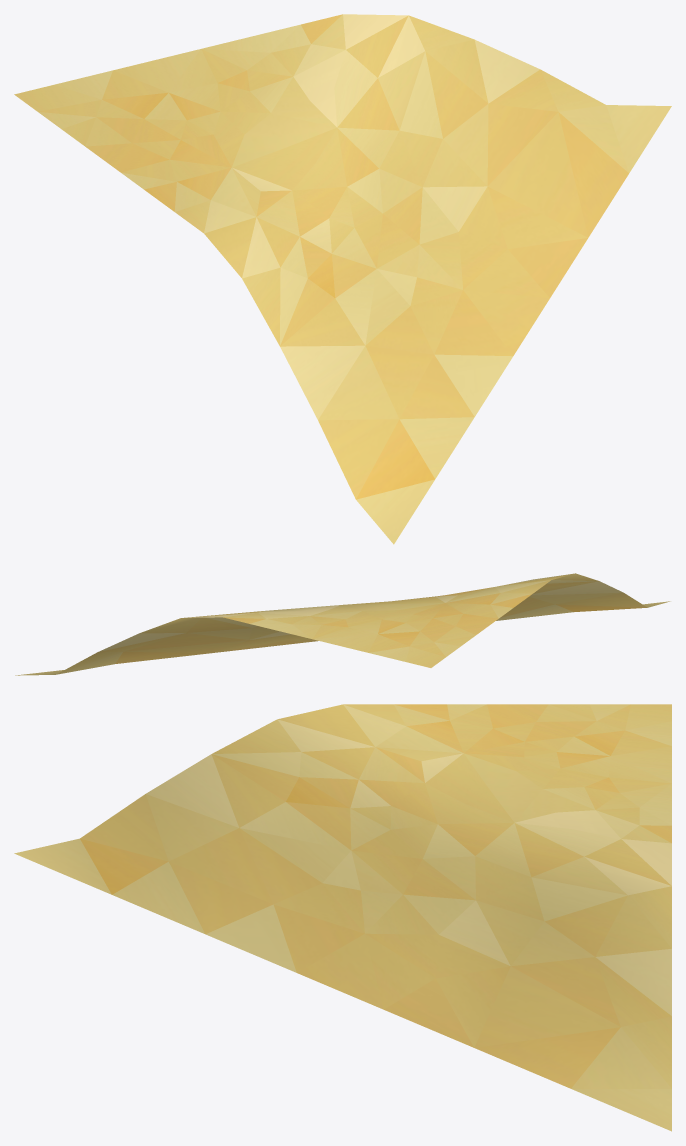
File: GL-Terrain-part-11.fbx
The picture shows the model from 3 angles, top to bottom: view 1: azimuth 30°, elevation 25°; view 2: azimuth 150°, elevation 25°; view 3: azimuth 270°, elevation 25°; orthographic projection. The views are drawn at different scales.
Parts seen in each view (by area): view 1: GL-Terrain-part-11; view 2: GL-Terrain-part-11; view 3: GL-Terrain-part-11.
Part boxes in pixels (x1,y1,x2,y2): GL-Terrain-part-11: (14, 14, 671, 544); GL-Terrain-part-11: (15, 573, 670, 675); GL-Terrain-part-11: (14, 704, 671, 1131).
Size of the model in its own units: 12 by 3 by 12.
